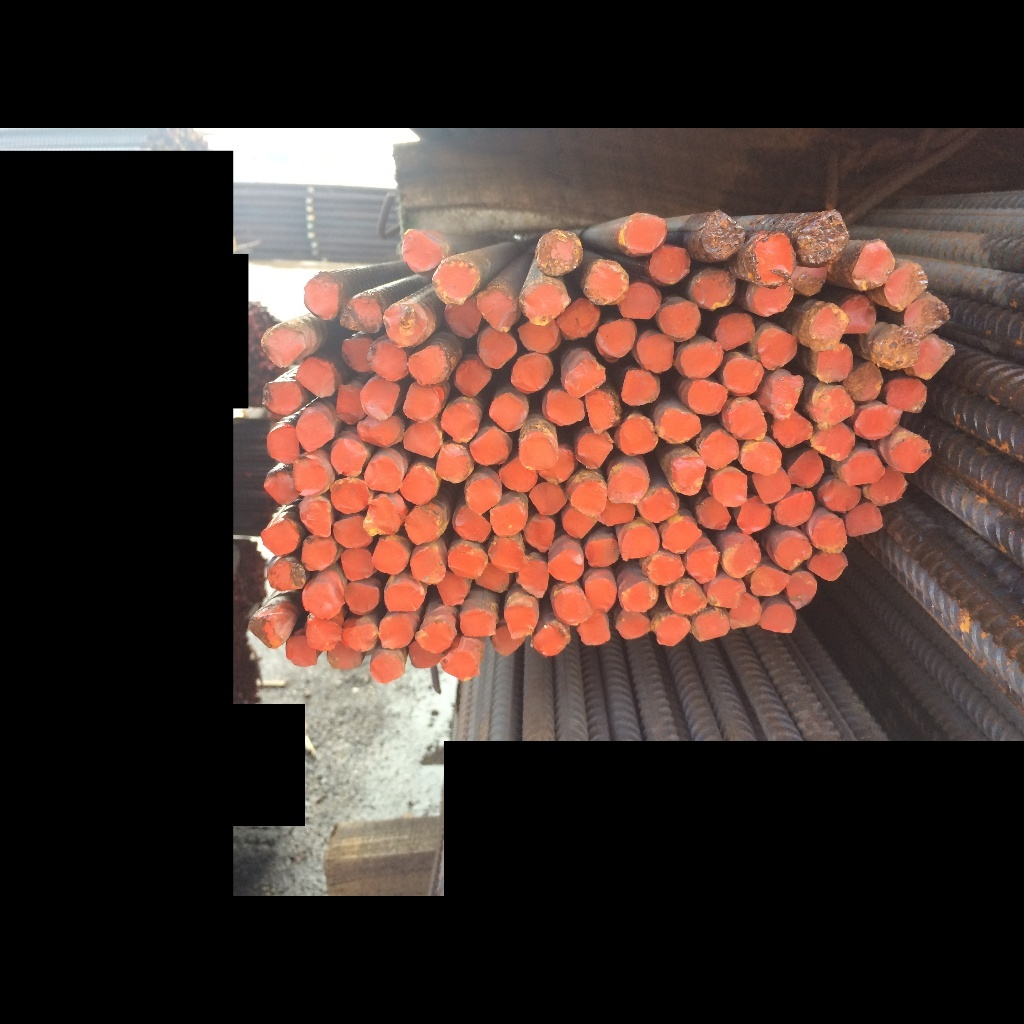dipstick: (797, 208, 850, 265), (746, 231, 794, 287), (520, 279, 571, 326), (697, 211, 743, 260), (535, 228, 582, 275), (853, 240, 895, 289), (433, 261, 479, 305), (886, 262, 927, 311), (385, 304, 429, 348), (584, 259, 626, 305), (874, 328, 920, 368), (904, 298, 950, 338), (261, 325, 304, 367), (691, 267, 734, 309), (813, 384, 854, 427), (809, 305, 849, 349), (369, 339, 409, 382), (403, 230, 443, 273), (296, 409, 335, 453), (476, 291, 518, 331), (607, 465, 649, 505), (622, 213, 665, 252), (855, 406, 901, 442), (619, 281, 660, 321), (727, 400, 766, 442), (297, 356, 335, 399), (304, 274, 339, 320), (410, 346, 449, 387), (544, 390, 585, 429), (619, 417, 660, 456), (512, 355, 554, 393), (759, 328, 797, 370), (302, 581, 345, 618), (810, 423, 853, 460), (658, 409, 702, 445), (357, 414, 403, 448), (362, 379, 400, 420), (659, 302, 700, 340), (649, 246, 690, 284), (403, 381, 440, 423), (723, 535, 759, 578), (890, 437, 933, 473), (679, 344, 723, 379), (768, 373, 803, 417), (479, 329, 518, 368), (400, 467, 439, 506), (699, 431, 739, 469), (597, 318, 635, 358), (688, 380, 728, 418), (845, 362, 883, 402), (749, 282, 793, 316), (551, 587, 590, 625), (814, 343, 853, 381), (332, 437, 368, 478), (565, 359, 607, 394), (771, 413, 813, 448), (342, 298, 381, 335), (442, 404, 479, 443), (576, 431, 613, 470), (562, 299, 599, 338), (444, 299, 481, 338), (724, 358, 764, 394), (885, 379, 927, 413), (365, 456, 403, 493), (788, 451, 825, 489), (869, 468, 907, 505), (292, 459, 331, 495), (471, 429, 510, 465), (670, 456, 706, 495), (334, 514, 374, 549), (843, 451, 884, 485), (405, 508, 442, 545), (300, 536, 338, 572), (490, 394, 526, 432), (518, 433, 556, 469), (262, 380, 301, 415), (504, 598, 539, 637), (529, 623, 569, 657), (811, 518, 848, 554), (637, 335, 673, 372), (791, 261, 828, 297), (331, 479, 369, 514), (438, 445, 473, 483), (775, 492, 813, 527), (622, 369, 657, 407), (411, 546, 445, 585), (663, 519, 702, 553), (739, 495, 773, 534), (267, 425, 300, 465), (267, 557, 307, 590), (337, 384, 368, 426), (585, 392, 616, 434), (718, 314, 754, 350), (841, 299, 877, 335), (449, 545, 487, 579), (638, 489, 676, 523), (299, 499, 332, 538), (439, 650, 479, 682), (741, 443, 781, 475), (519, 320, 560, 351), (490, 502, 525, 538), (847, 503, 883, 538), (249, 614, 286, 648), (368, 651, 405, 685), (517, 560, 549, 599), (264, 471, 299, 506), (374, 540, 409, 575), (713, 472, 748, 507), (262, 522, 299, 555), (457, 360, 490, 397), (404, 424, 441, 457), (529, 481, 566, 514), (753, 469, 790, 502), (692, 610, 730, 642), (787, 572, 818, 611), (810, 551, 849, 582), (345, 616, 378, 652), (622, 527, 658, 560), (571, 481, 607, 514), (776, 538, 812, 571), (621, 581, 659, 612), (750, 568, 790, 597), (380, 615, 414, 649), (490, 540, 525, 573), (578, 612, 611, 647), (344, 581, 380, 613), (686, 547, 718, 583), (452, 513, 490, 543), (386, 582, 425, 611), (822, 482, 861, 511), (306, 619, 341, 651), (697, 499, 732, 531), (585, 577, 616, 613), (648, 554, 684, 585), (656, 616, 692, 647), (708, 579, 746, 608), (468, 479, 500, 513), (761, 605, 796, 636), (416, 622, 452, 652), (670, 585, 706, 615), (459, 609, 496, 638), (730, 595, 761, 629), (340, 549, 373, 580), (285, 637, 319, 667), (585, 540, 620, 569), (550, 553, 583, 583), (490, 625, 523, 655), (526, 518, 555, 552), (341, 338, 369, 373), (616, 612, 650, 640), (439, 577, 470, 605), (327, 647, 364, 670), (477, 570, 509, 592), (409, 645, 439, 668)
